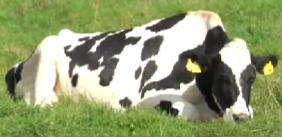cow: (6, 10, 278, 124)
